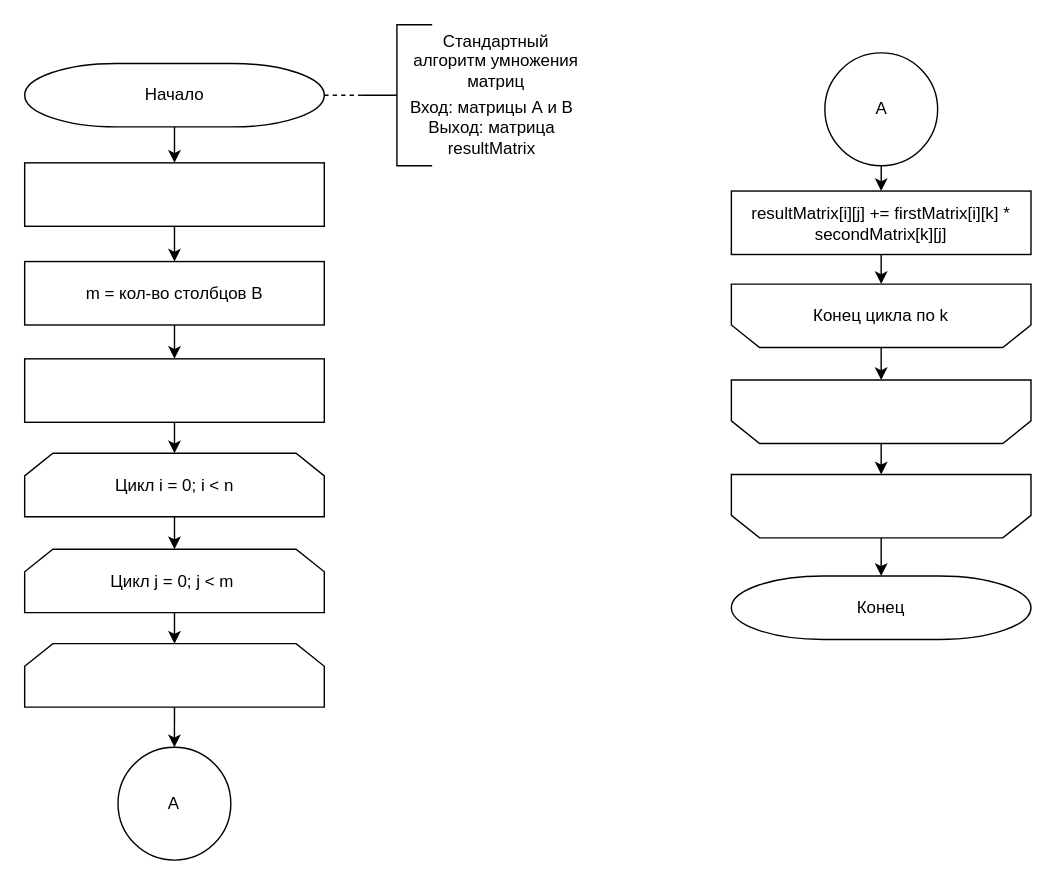
Some shapes in this 1056 by 885 pixel diagram are drawn without their labels. Each missing label, with the centre of its shape:
n = кол-во строк А: the point at 173,193
q = кол-во столбцов А: the point at 173,389
Конец цикла по i: the point at 880,505
Конец цикла по j: the point at 880,411
Цикл k = 0; k < q: the point at 173,674
